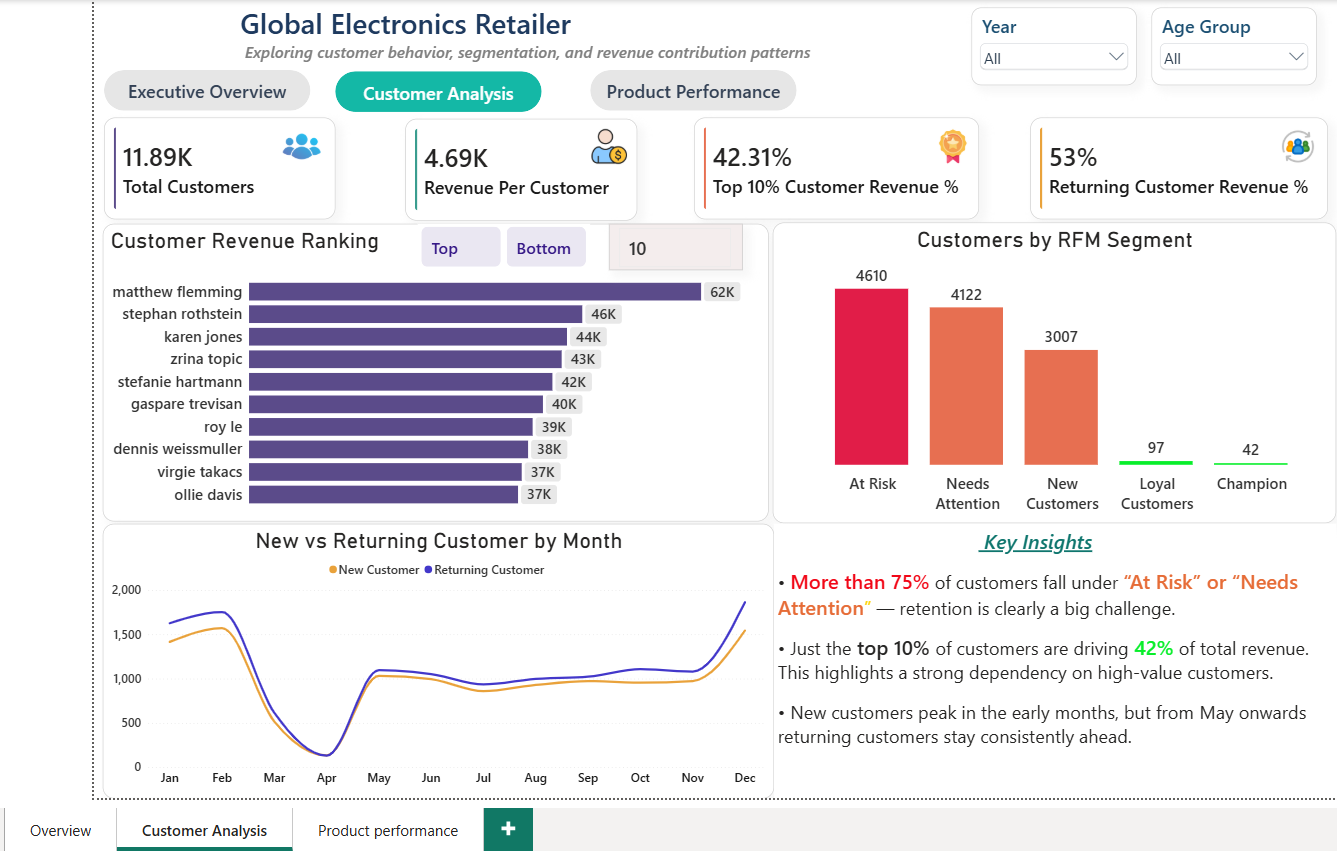

Layout of this report page (visuals, bound fields, positions):
{"tool":"powerbi","page":{"name":"Customer Analysis","canvas":[1650,1060],"ordinal":1},"visuals":[{"type":"textbox","box":[189.2,0,892.7,94.6],"z":0},{"type":"cardVisual","fields":{"Data":["_Measure.Total Customers"]},"box":[13.3,156,307.4,135],"z":1000},{"type":"cardVisual","fields":{"Data":["_Measure.Revenue Per Customer"]},"box":[413.2,157.6,307.7,135],"z":2000},{"type":"cardVisual","fields":{"Data":["_Measure.Returning Customer Revenue %"]},"box":[1242.9,156,395,135],"z":3000},{"type":"cardVisual","fields":{"Data":["_Measure.Top 10% Customer Revenue"]},"box":[796.5,156,378,135],"z":4000},{"type":"clusteredBarChart","title":"Customer Revenue Ranking","fields":{"Category":["Customers_clean.name"],"Y":["_Measure.Ranking Revenue"]},"box":[10.8,297,883.9,395],"z":5000},{"type":"advancedSlicerVisual","fields":{"Values":["Top/Bottom.Value"]},"box":[430.3,297,228.6,61.2],"z":6000},{"type":"lineChart","title":"New vs Returning Customer by Month","fields":{"Category":["Calender Table.Month"],"Y":["Sales_clean.New Customer Revenue","Sales_clean.Returning Customer Revenue"]},"box":[11.6,695.3,891.1,365.1],"z":7000},{"type":"clusteredColumnChart","title":"Customers by RFM Segment","fields":{"Category":["RFM_Segments.customer_segment"],"Y":["_Measure.Total Customers"]},"box":[901,295.4,747.9,399.4],"z":8000},{"type":"slicer","fields":{"Values":["InputValue.InputValue"]},"box":[684.1,297,177.6,61.4],"z":9000},{"type":"slicer","fields":{"Values":["Calender Table.Year"]},"box":[1164.9,10,219.2,103.3],"z":10000},{"type":"slicer","fields":{"Values":["Customers_clean.Age Group"]},"box":[1403.8,10,219.2,103.3],"z":11000},{"type":"actionButton","box":[320.3,94.6,274,54],"z":12000},{"type":"actionButton","box":[13.3,92.9,274,54],"z":13000},{"type":"actionButton","box":[658.8,92.9,274,54],"z":14000},{"type":"image","box":[250.6,169.3,50,50],"z":15000},{"type":"image","box":[658.9,169.2,50,50],"z":16000},{"type":"image","box":[1573.1,169.3,50,50],"z":17000},{"type":"image","box":[1115.1,169.3,50,50],"z":18000},{"type":"textbox","box":[903,695,746,365],"z":19000}]}

Visuals, with their boxes on the page's 1650x1060 design canvas (x1, y1, x2, y2). These are canvas units, not pixel positions in the 1337x851 screenshot, which may show the page scaled, cropped or inside an application window:
textbox: <bbox>189, 0, 1082, 95</bbox>
cardVisual - _Measure.Total Customers: <bbox>13, 156, 321, 291</bbox>
cardVisual - _Measure.Revenue Per Customer: <bbox>413, 158, 721, 293</bbox>
cardVisual - _Measure.Returning Customer Revenue %: <bbox>1243, 156, 1638, 291</bbox>
cardVisual - _Measure.Top 10% Customer Revenue: <bbox>796, 156, 1174, 291</bbox>
"Customer Revenue Ranking" clusteredBarChart: <bbox>11, 297, 895, 692</bbox>
advancedSlicerVisual - Top/Bottom.Value: <bbox>430, 297, 659, 358</bbox>
"New vs Returning Customer by Month" lineChart: <bbox>12, 695, 903, 1060</bbox>
"Customers by RFM Segment" clusteredColumnChart: <bbox>901, 295, 1649, 695</bbox>
slicer - InputValue.InputValue: <bbox>684, 297, 862, 358</bbox>
slicer - Calender Table.Year: <bbox>1165, 10, 1384, 113</bbox>
slicer - Customers_clean.Age Group: <bbox>1404, 10, 1623, 113</bbox>
actionButton: <bbox>320, 95, 594, 149</bbox>
actionButton: <bbox>13, 93, 287, 147</bbox>
actionButton: <bbox>659, 93, 933, 147</bbox>
image: <bbox>251, 169, 301, 219</bbox>
image: <bbox>659, 169, 709, 219</bbox>
image: <bbox>1573, 169, 1623, 219</bbox>
image: <bbox>1115, 169, 1165, 219</bbox>
textbox: <bbox>903, 695, 1649, 1060</bbox>
